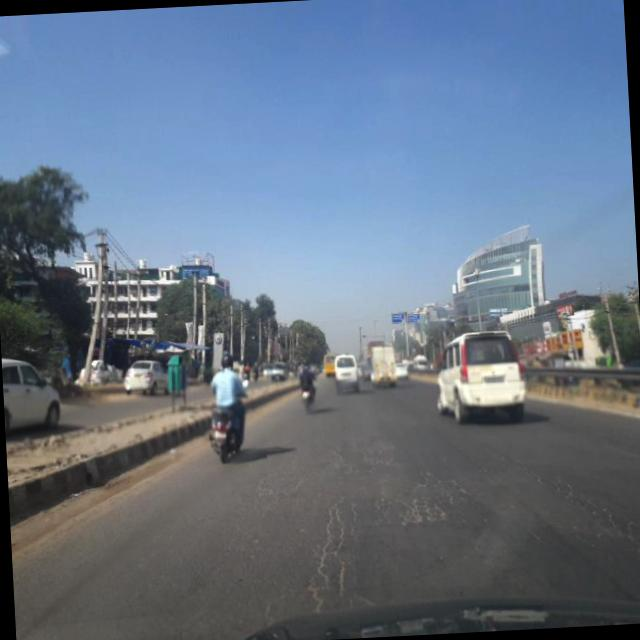crack: (312, 426, 470, 558), (502, 431, 640, 565)
pothole: (297, 496, 356, 610)
